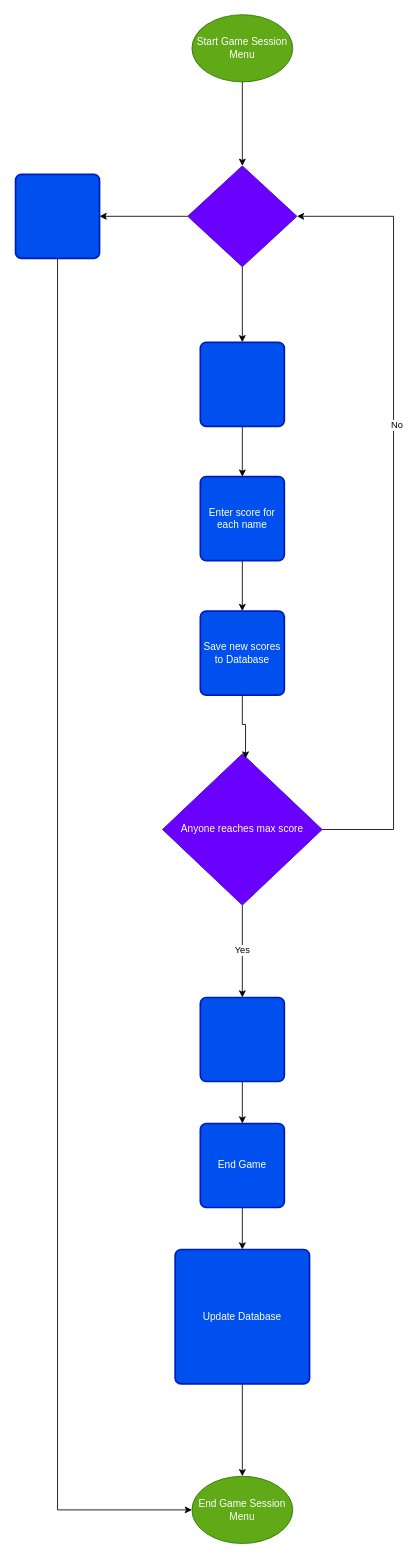
Image size: 417x1558. Some labels were removed from this diagram. The shapes that lost their labels are listed below. From the top down, each one's box as (x1, y1, x2, y2) in pixels, then its label:
(14, 173, 100, 259): Home Menu
(187, 165, 297, 267): Button Select
(199, 341, 285, 427): Add new scores
(199, 996, 285, 1082): Show Winner
